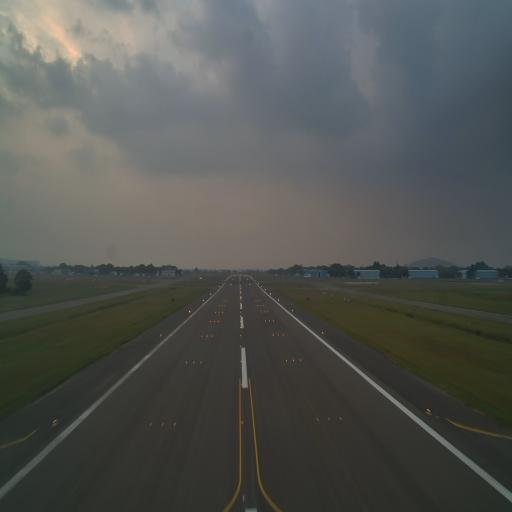on: (52, 415, 58, 427), (160, 418, 166, 429), (148, 418, 153, 431), (337, 414, 343, 424), (241, 491, 245, 505), (426, 406, 432, 415), (172, 420, 177, 428), (240, 418, 244, 428), (316, 416, 320, 426), (327, 414, 331, 424), (298, 357, 302, 364), (192, 358, 195, 366), (184, 360, 188, 365), (285, 358, 288, 364), (199, 360, 203, 364), (292, 358, 295, 363), (240, 381, 242, 388), (240, 360, 242, 364)
